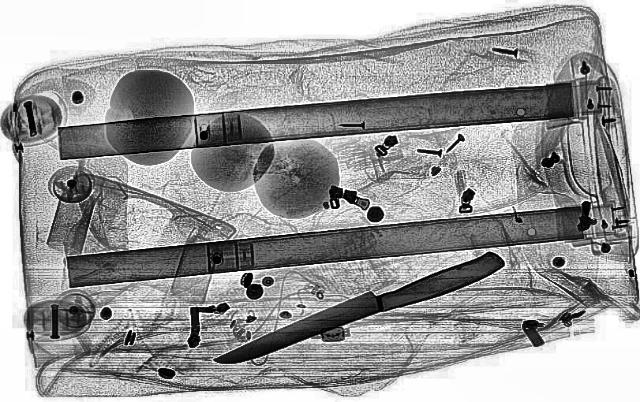Knife: (202, 248, 512, 372)
